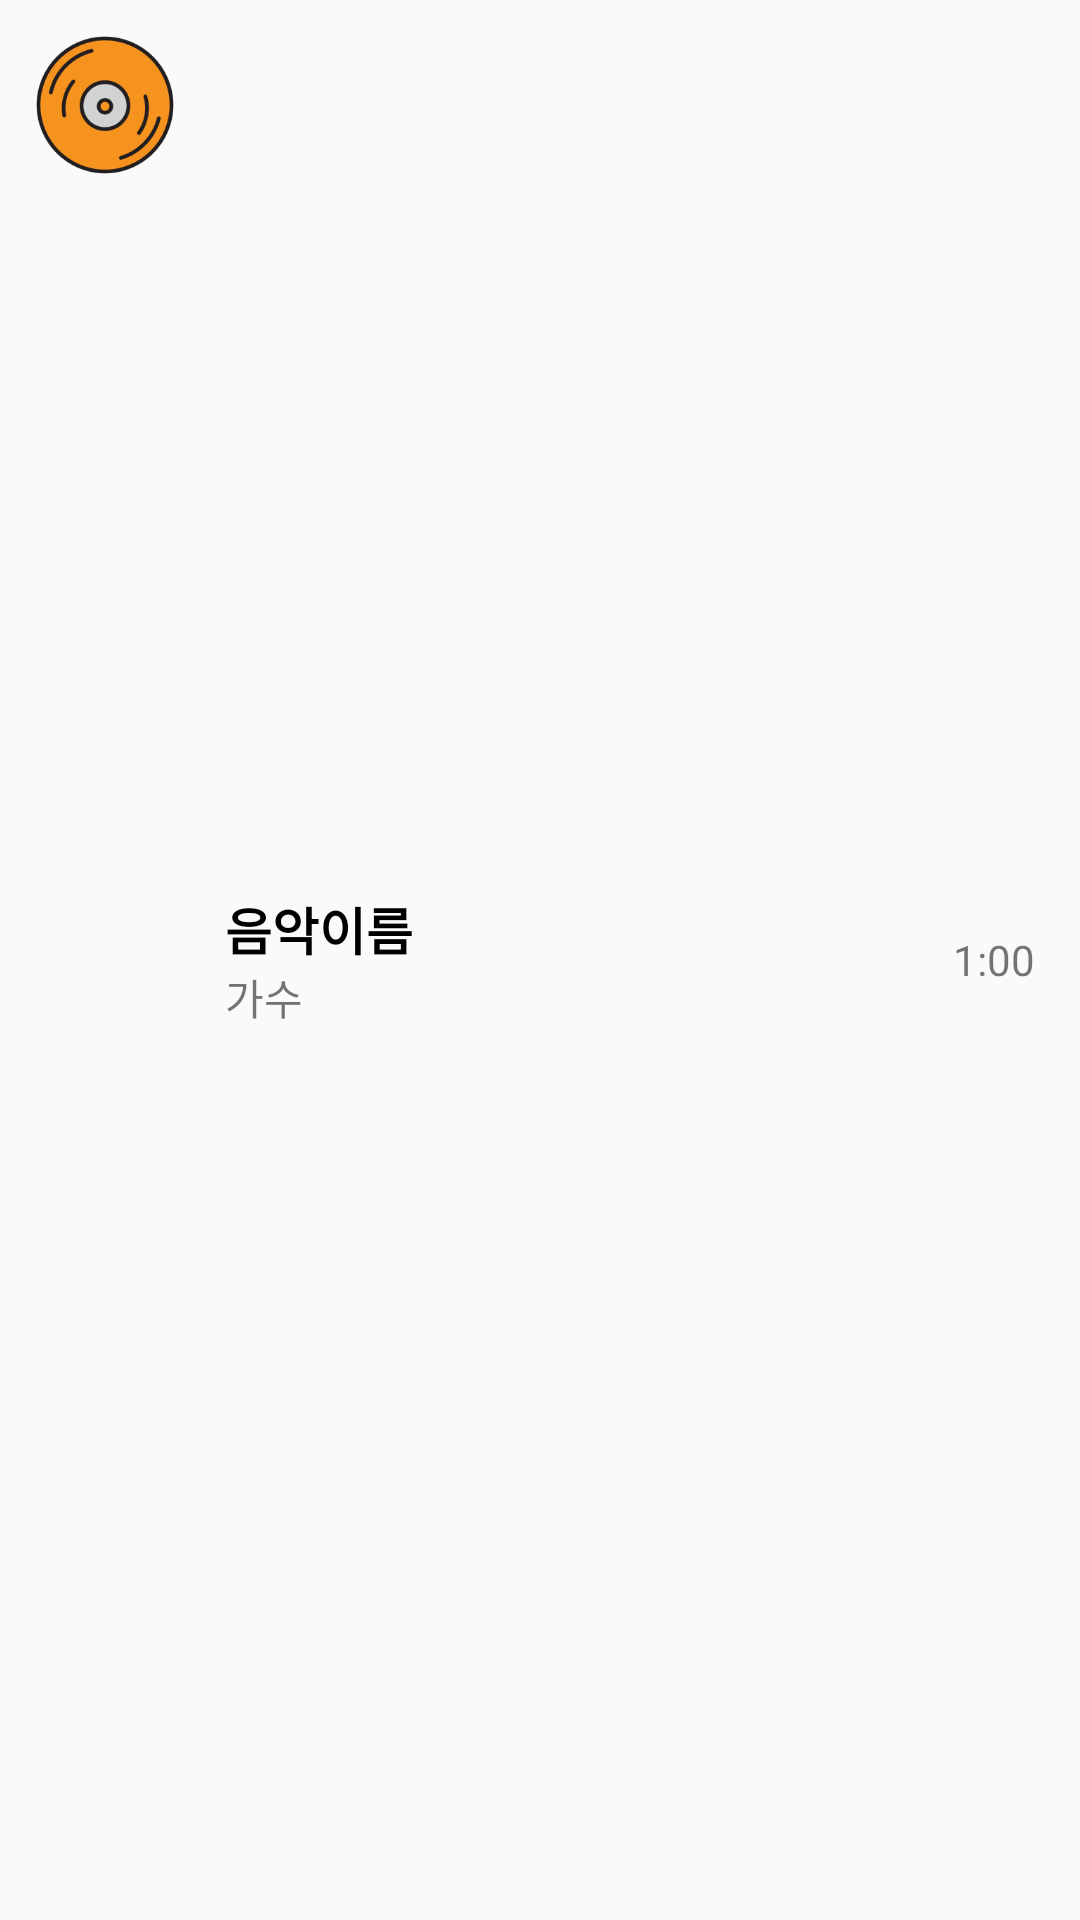

Where to tap for icons on this 1080 x 1920 app screen, as (x,y):
music: (105,105)
